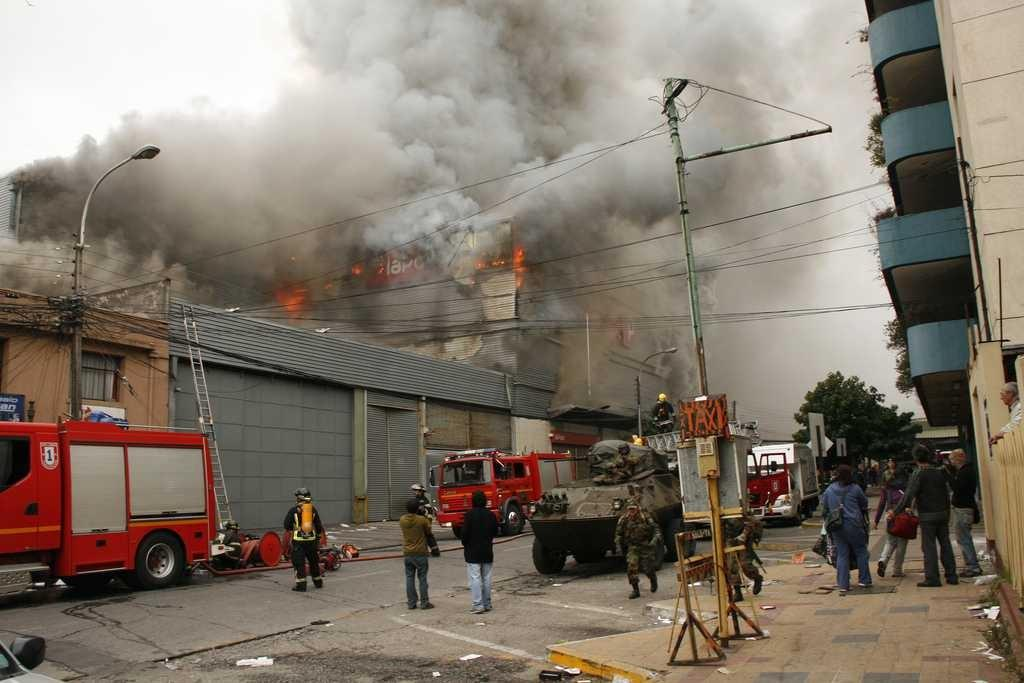fire: (353, 258, 419, 299), (273, 280, 322, 322), (502, 243, 526, 284)
smoke: (359, 43, 660, 220), (177, 120, 331, 261)
